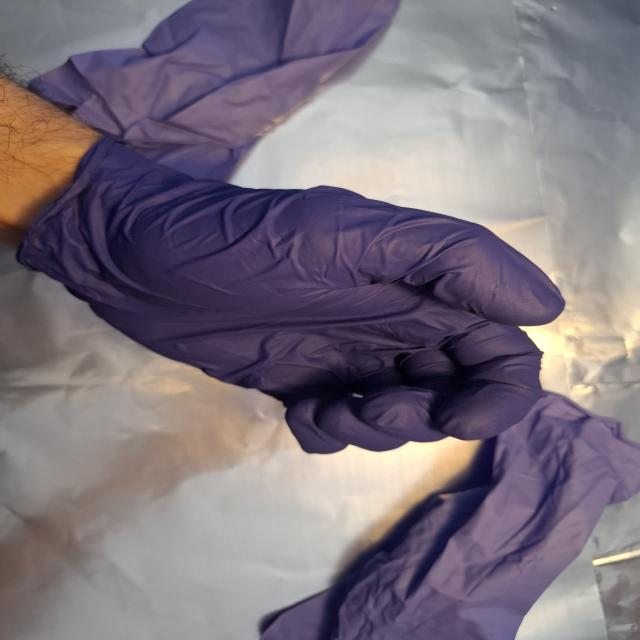glove_on: (14, 134, 570, 458)
